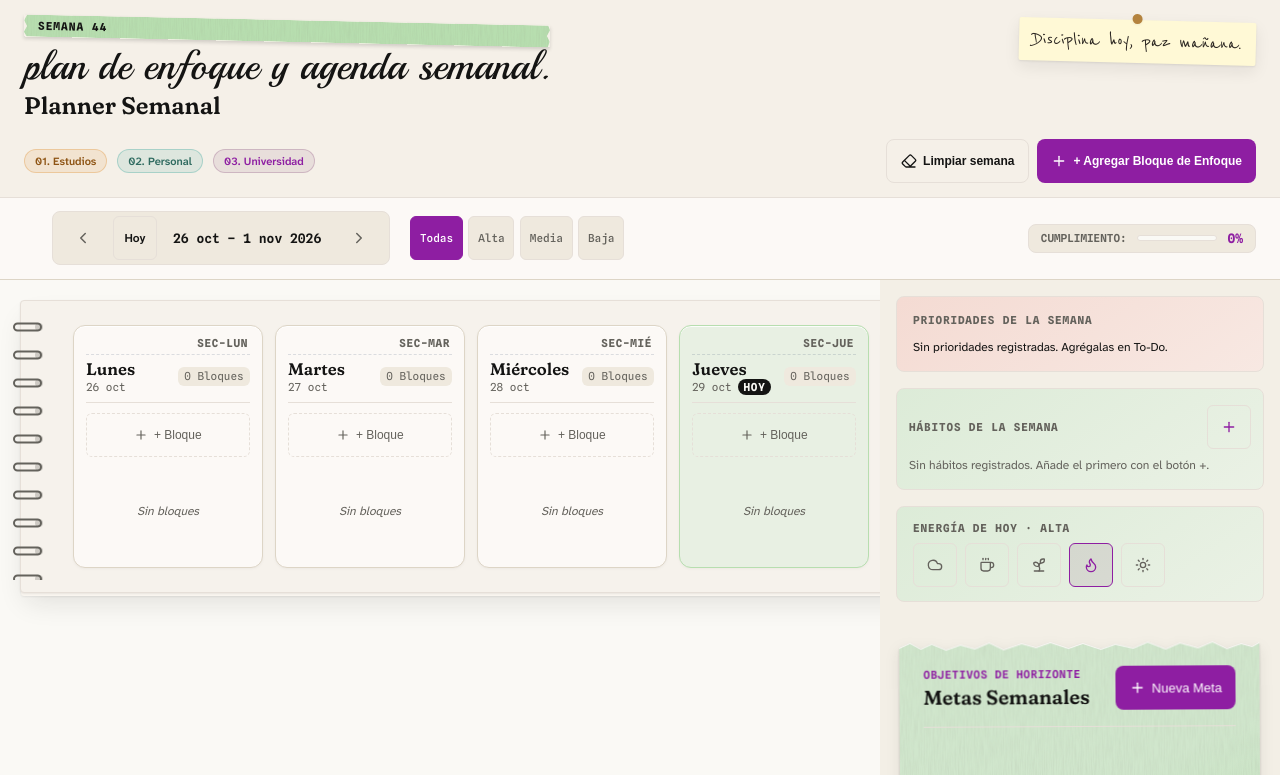
Scenario: PlannerView integración semanal y metas › inicializa correctamente el día en modal y limpia campos entre aperturas
Note: Abrir desde Miércoles
Click the button with aria-label "agregar bloque miércoles".
click(572, 435)  # box [490,413,654,457]
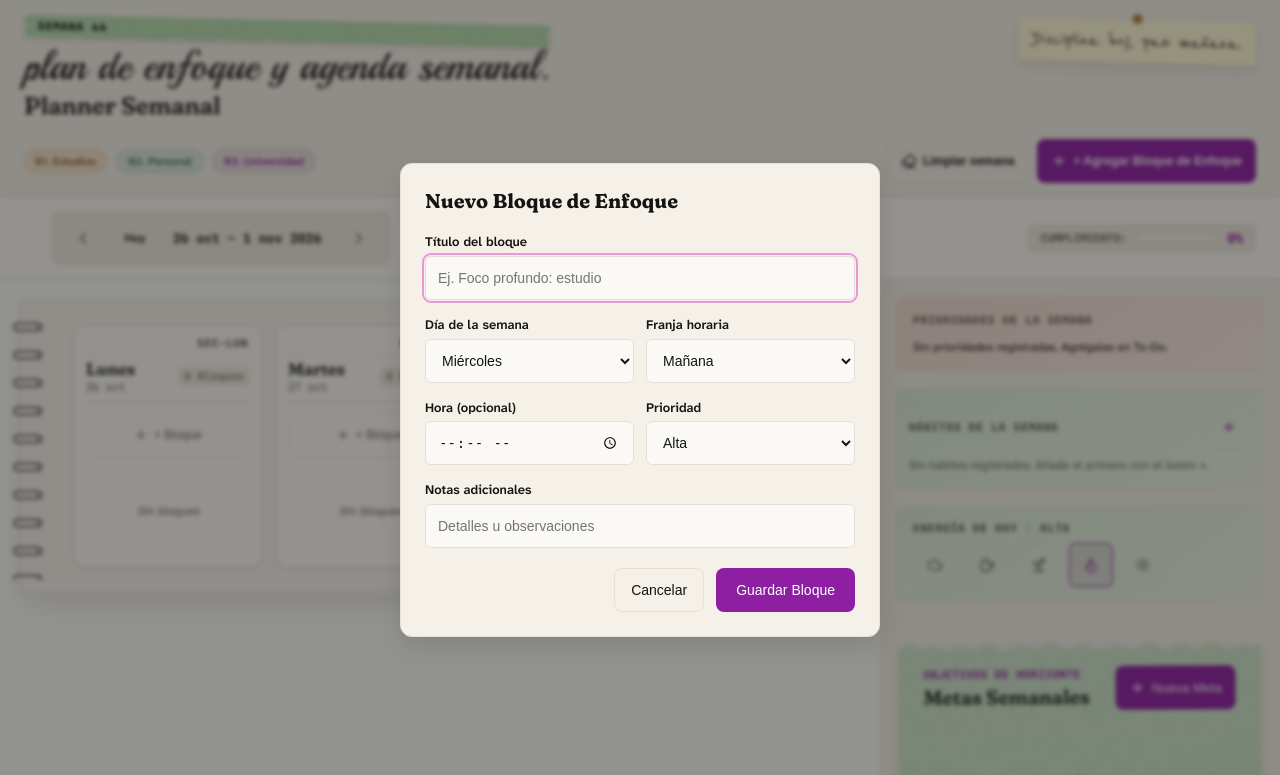
Expected: the dropdown labelled "Día de la semana" shows "Miércoles", [425,338,634,382]
Type "Lectura miércoles" into the field labelled "Título del bloque".
click(640, 278); type("Lectura miércoles")  # box [425,256,855,300]
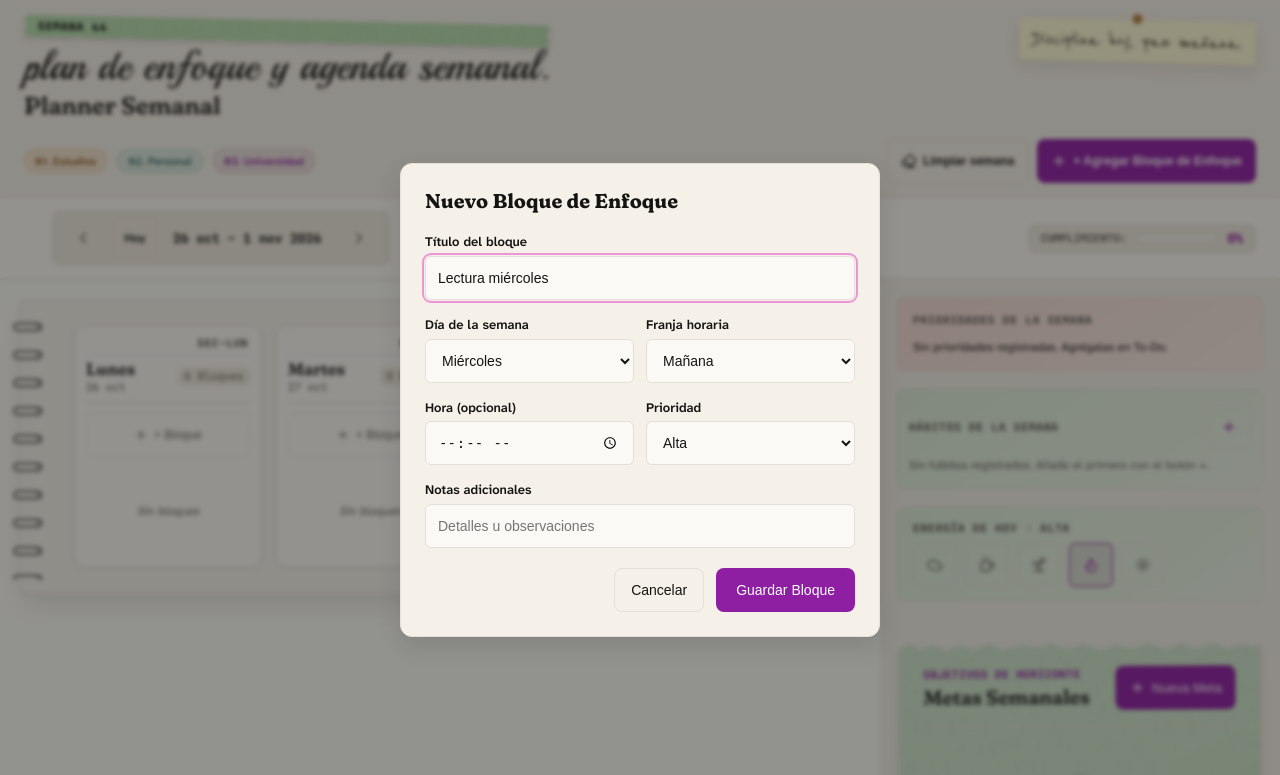
Click the button "Cancelar".
click(659, 590)  # box [614,568,704,612]
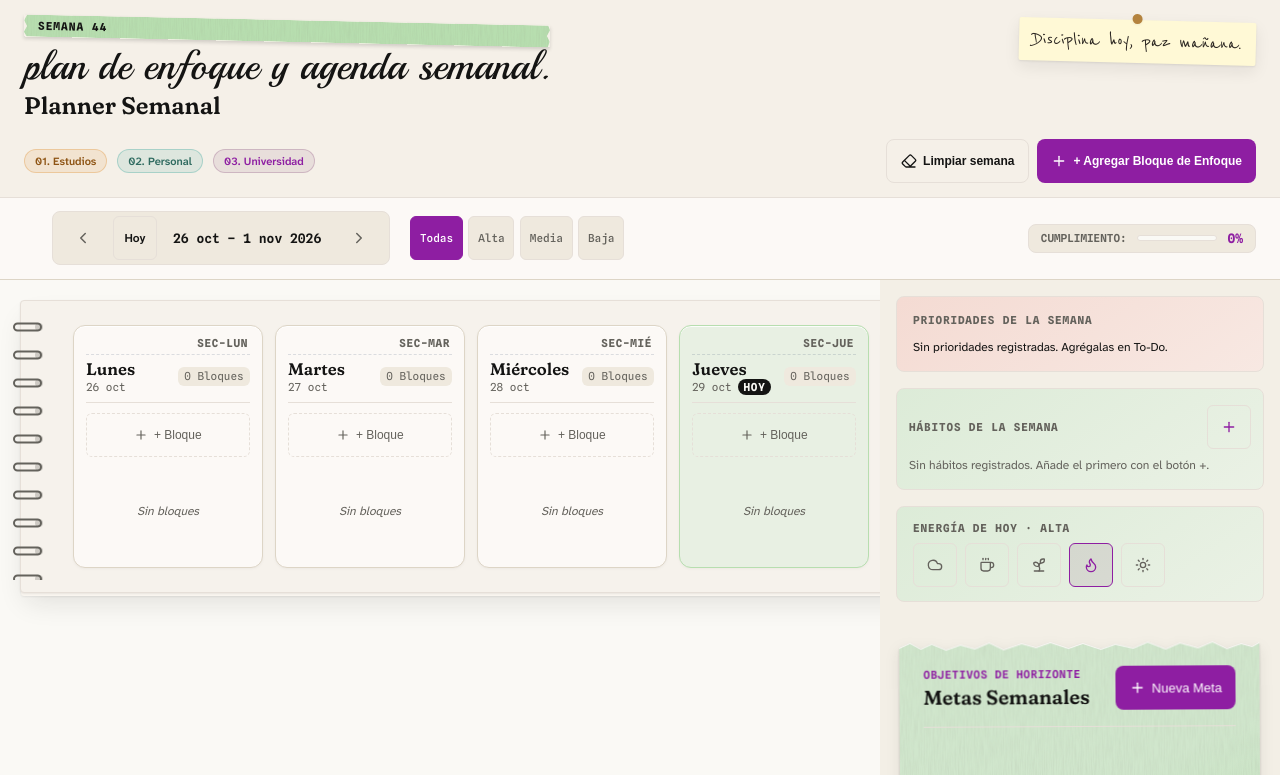
Note: Abrir ahora desde Jueves
Click the button with aria-label "agregar bloque jueves".
click(774, 435)  # box [692,413,856,457]
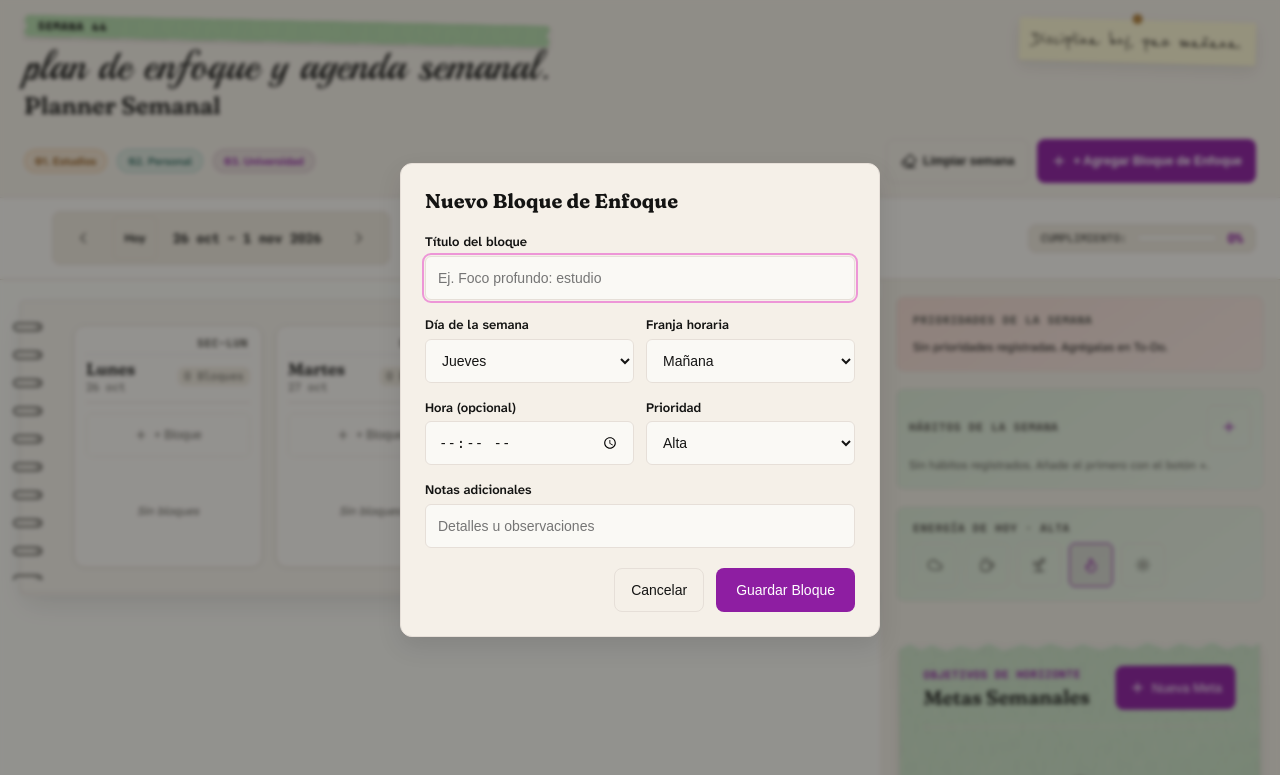
Expected: the dropdown labelled "Día de la semana" shows "Jueves", [425,338,634,382]
Expected: the field labelled "Título del bloque" is empty, [425,256,855,300]
